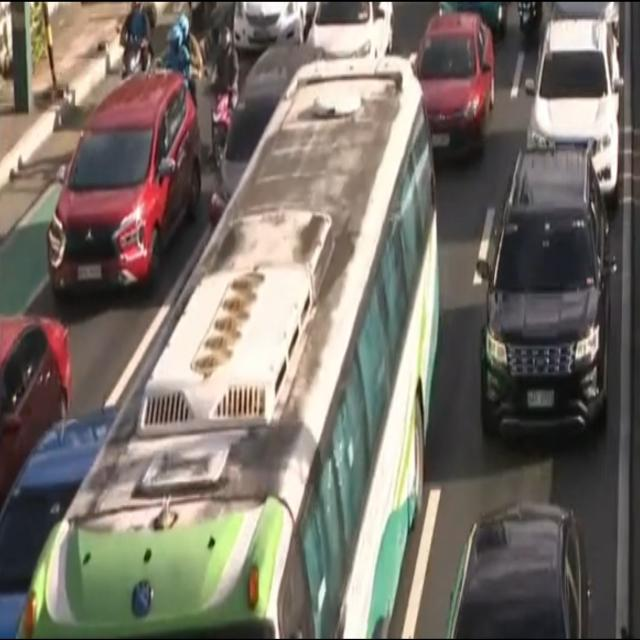Bus: (13, 60, 438, 640)
Motorcycle: (210, 24, 236, 171), (116, 0, 154, 79), (161, 19, 199, 93)
SUV: (478, 153, 608, 434), (48, 75, 202, 292), (210, 44, 318, 230), (526, 18, 622, 205)
Sedan: (439, 503, 589, 640), (0, 314, 71, 488), (414, 15, 487, 162), (306, 0, 392, 62)
